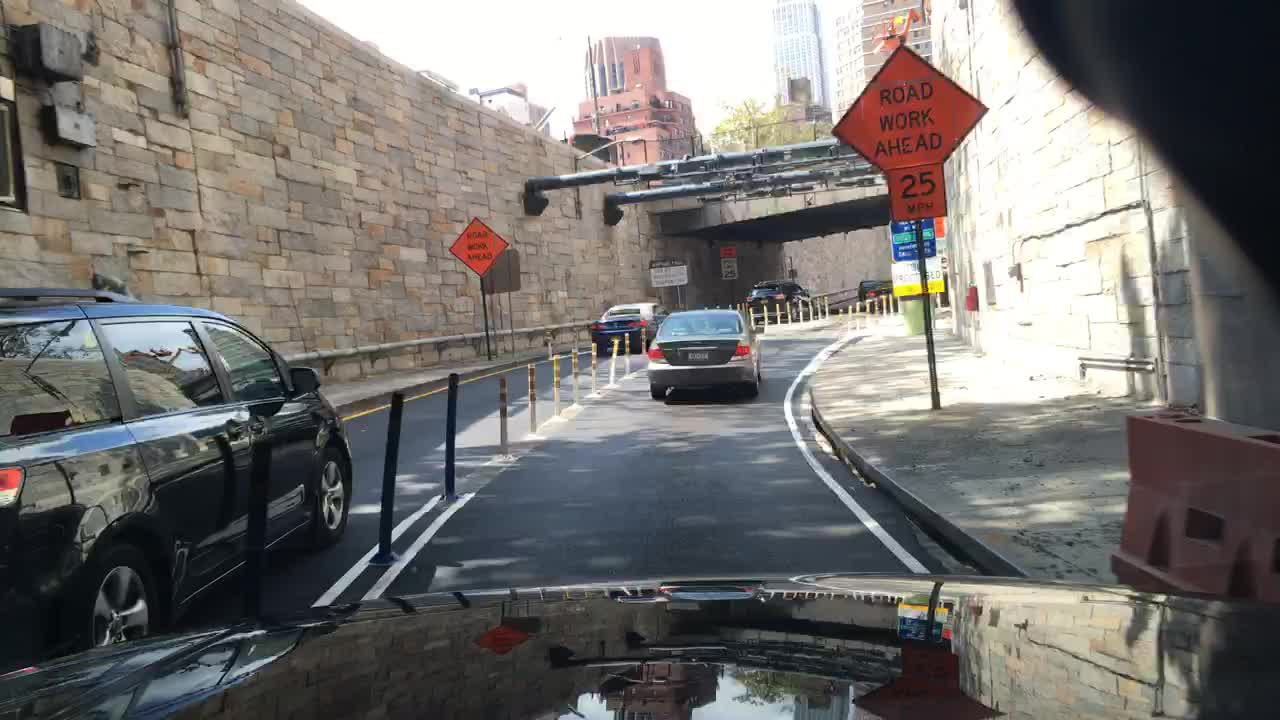car: (2, 288, 352, 670), (649, 309, 763, 401), (592, 300, 671, 356), (748, 278, 809, 319), (857, 275, 900, 309)
traffic sign: (832, 45, 990, 168), (446, 211, 508, 275), (892, 165, 944, 218), (893, 217, 934, 263), (480, 249, 521, 293), (890, 263, 939, 295), (647, 257, 688, 284), (720, 260, 737, 278), (931, 219, 945, 240), (718, 244, 736, 257)
